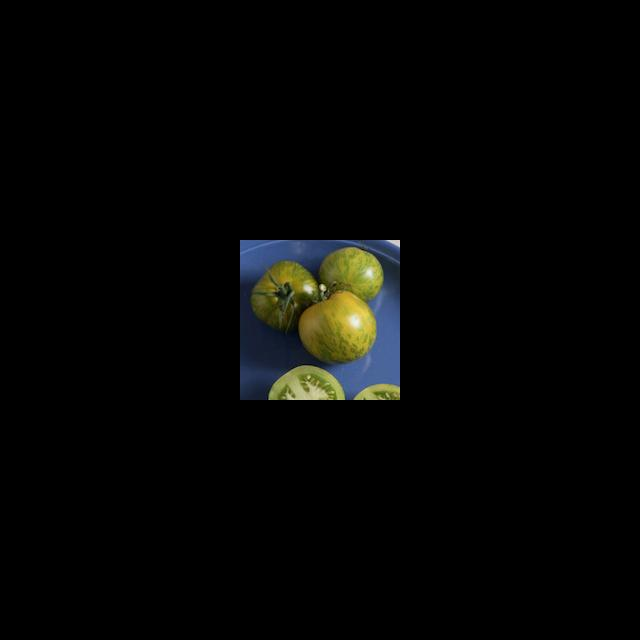tomato: (254, 243, 384, 363)
